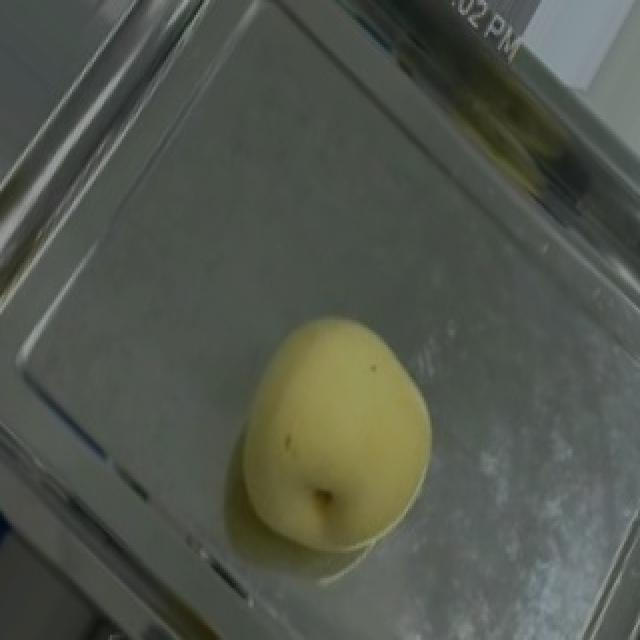Fruit: (190, 278, 474, 588)
